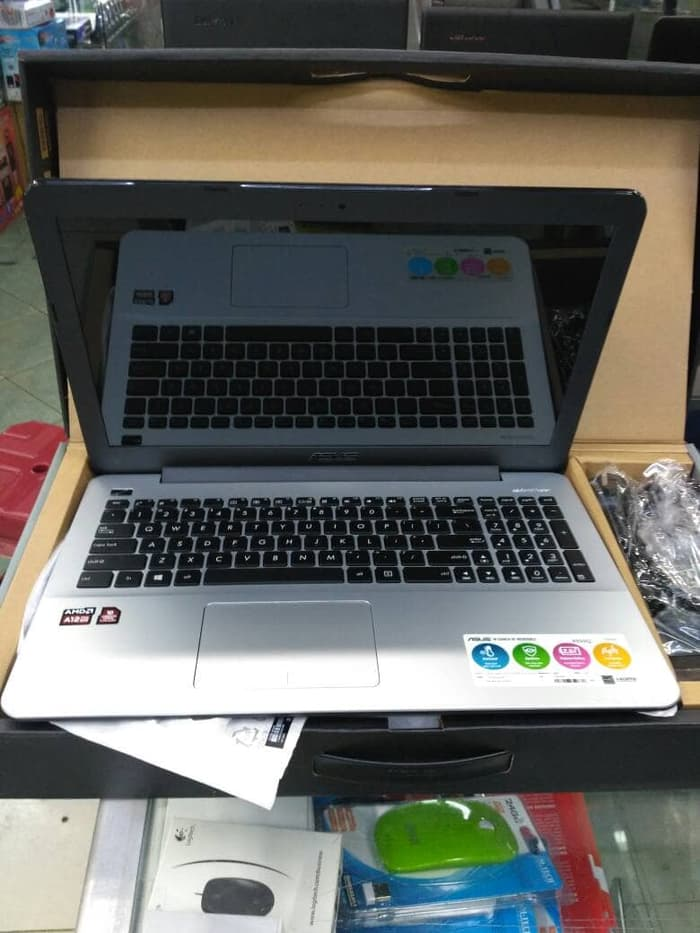Laptop: (4, 174, 689, 730)
